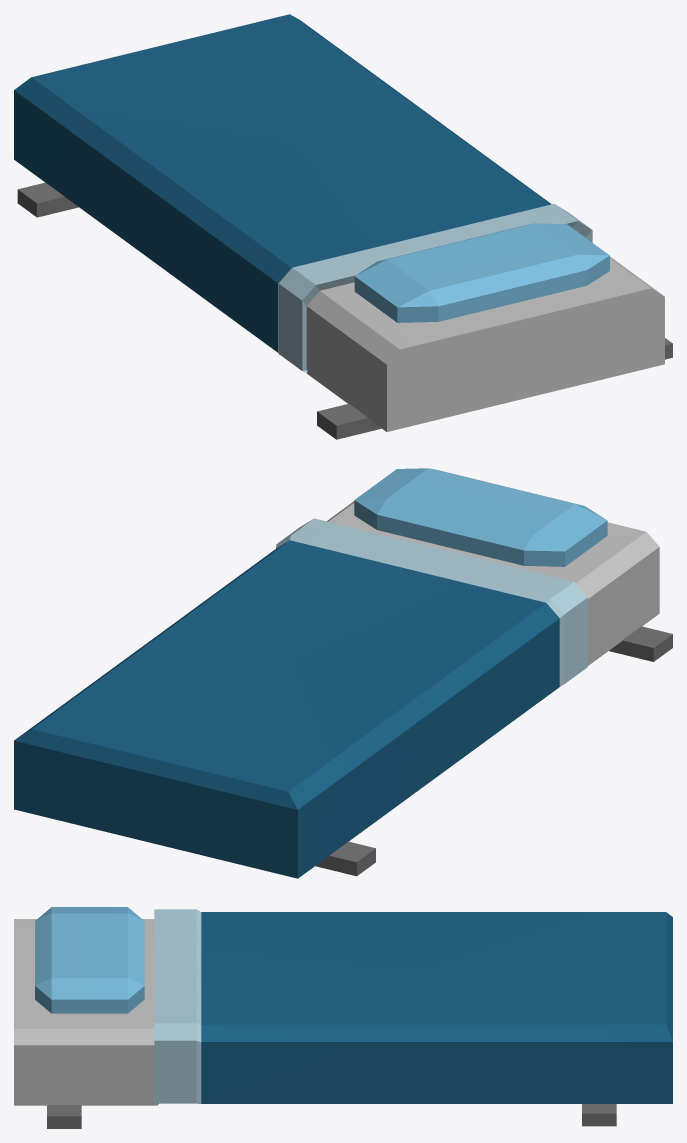
File: PrisonBed.fbx
3 views of the same model, one above another, from view 1: azimuth 30°, elevation 25°; view 2: azimuth 150°, elevation 25°; view 3: azimuth 270°, elevation 25° (orthographic). The views are drawn at different scales.
Visible parts, largest first — view 1: Cube.011; view 2: Cube.011; view 3: Cube.011.
Boxes of the visible parts, <box> form: Cube.011: <box>14,14,672,439</box>; Cube.011: <box>14,468,672,878</box>; Cube.011: <box>14,907,672,1128</box>.
Size of the model in its own units: 78.31 by 27.51 by 149.
